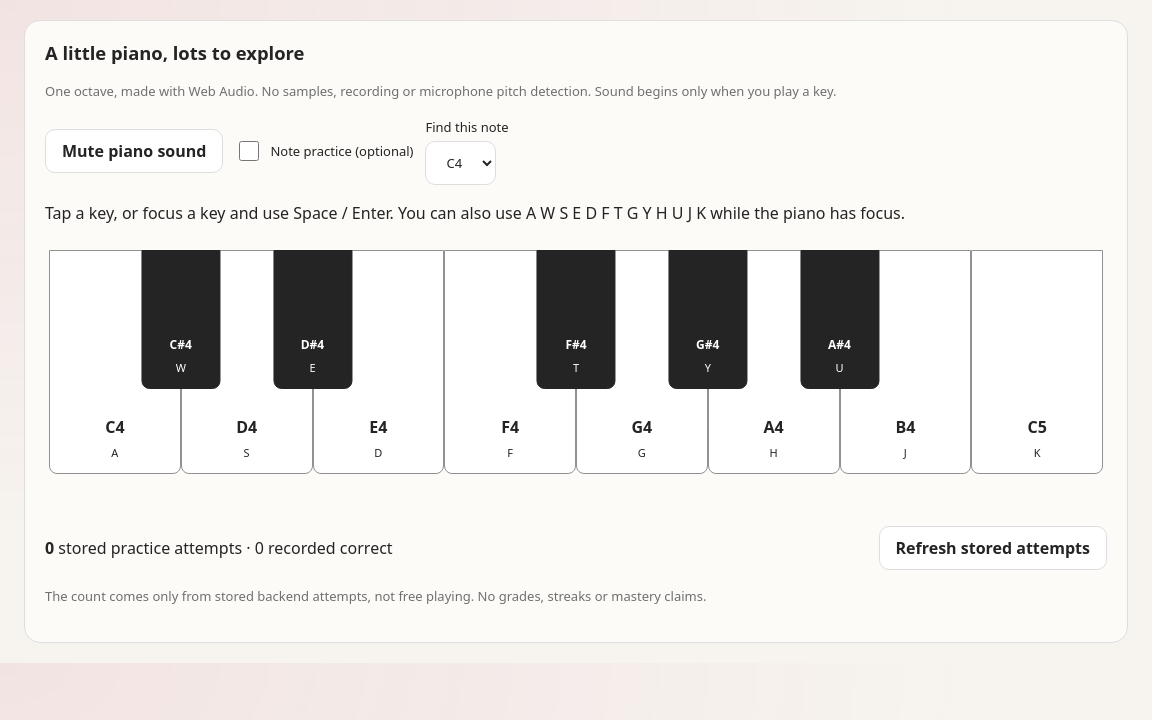
Test case: optional piano practice › free playing does not grade or create progress; note practice trusts server grading and stored counts
Check: the button "Refresh stored attempts" is enabled, box 878,526 -> 1107,570
Press a in the button named "C4 · A", box 49,250 -> 181,474
Click the checkbox labelled "Note practice (optional)".
click(249, 151)  # box 239,141 -> 259,161
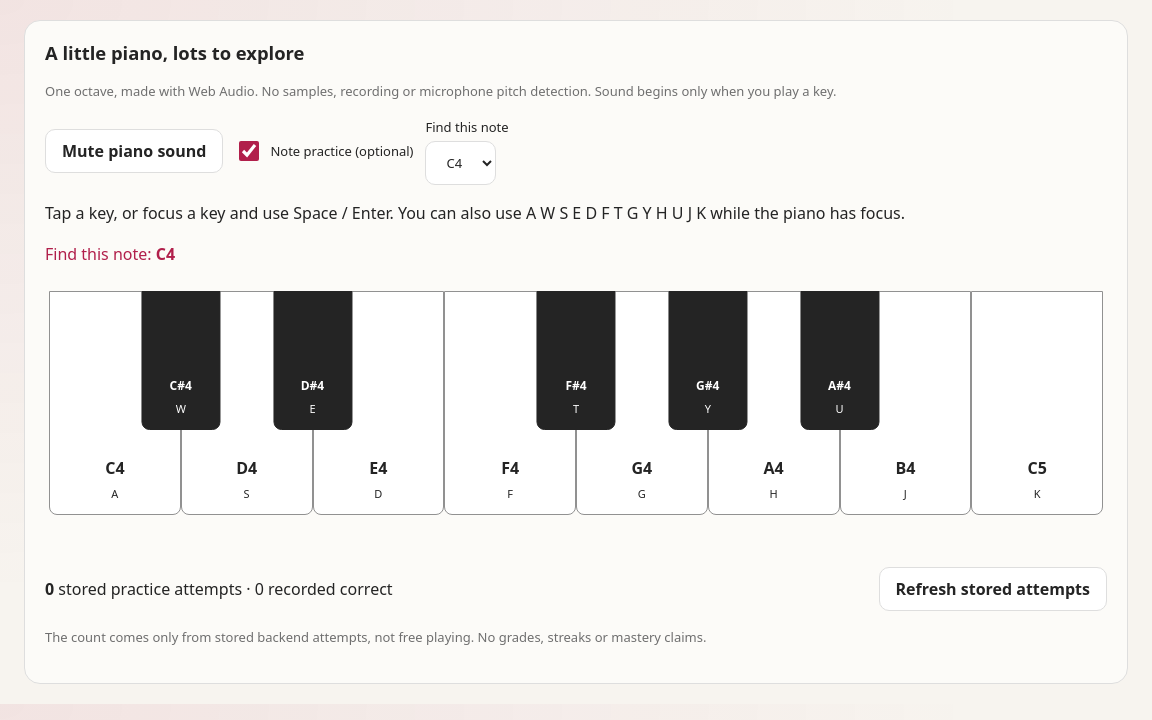
Press a in the button named "C4 · A", box 49,291 -> 181,515
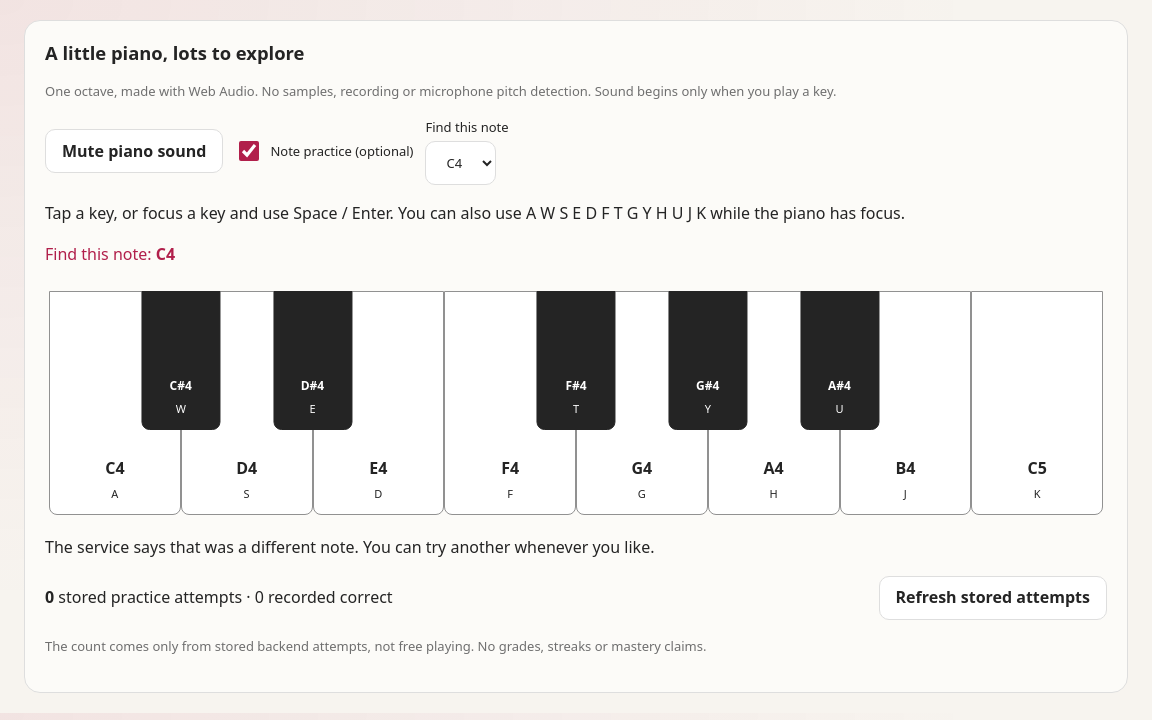
Check: the text "0 stored practice attempts · 0 recorded correct" is shown, box 45,585 -> 393,610
Check: the text "The service says that was a different note" is shown, box 45,536 -> 654,558
